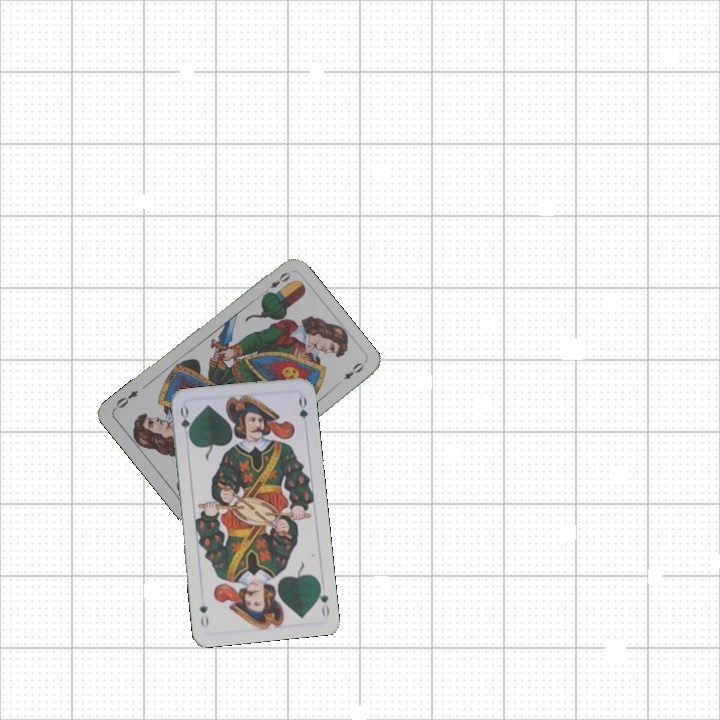EO: (258, 268, 293, 298)
GO: (313, 579, 332, 619), (176, 403, 194, 444)
